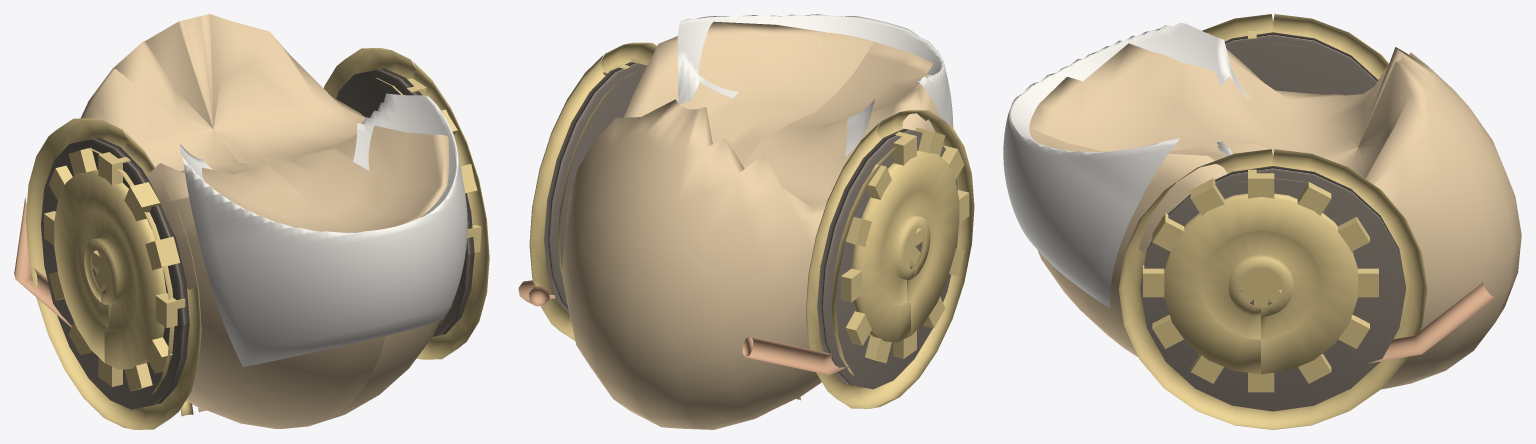
File: tray_part_core.glb
3 renders of one model, left to right at view 1: azimuth 30°, elevation 25°; view 2: azimuth 150°, elevation 25°; view 3: azimuth 270°, elevation 25°, orthographic. The views are drawn at different scales.
Visible parts, largest first — view 1: Tray_Core, Gear_L, Gear_R; view 2: Tray_Core, Gear_L; view 3: Tray_Core, Gear_R.
Boxes of the visible parts, left/top/right/bottom form: Tray_Core: left=14, top=14, right=489, bottom=429; Gear_L: left=44, top=147, right=185, bottom=391; Gear_R: left=407, top=78, right=481, bottom=252; Tray_Core: left=518, top=14, right=974, bottom=429; Gear_L: left=841, top=127, right=969, bottom=363; Tray_Core: left=1003, top=14, right=1521, bottom=429; Gear_R: left=1143, top=169, right=1378, bottom=392.
Size of the model in its own units: 0.2584 by 0.2529 by 0.361.
